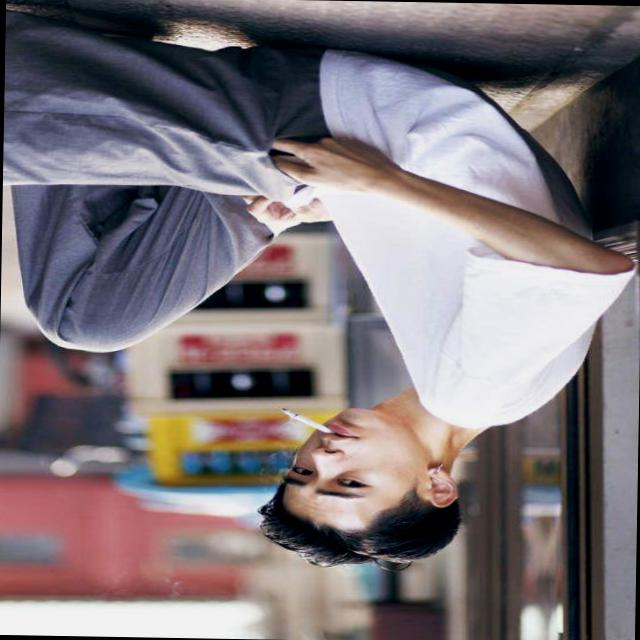cigarette: (268, 392, 348, 446)
